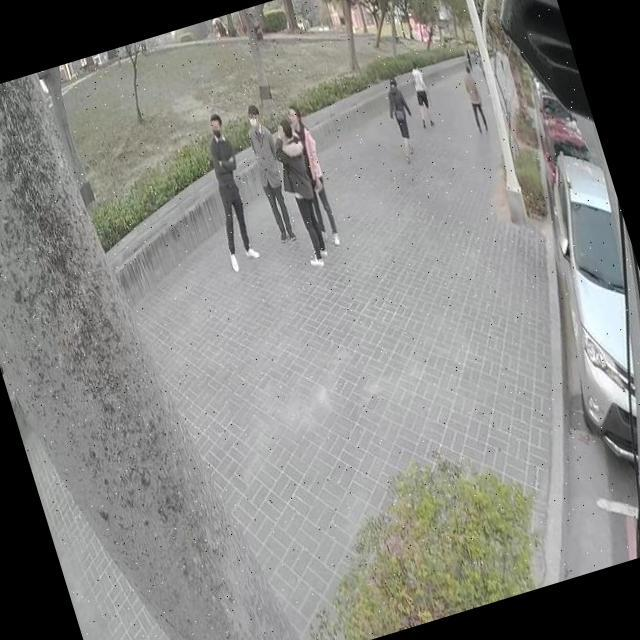person: (261, 108, 339, 270), (187, 111, 264, 274), (278, 96, 344, 244), (237, 101, 302, 248), (376, 67, 428, 166), (456, 63, 494, 137), (406, 62, 438, 130)
